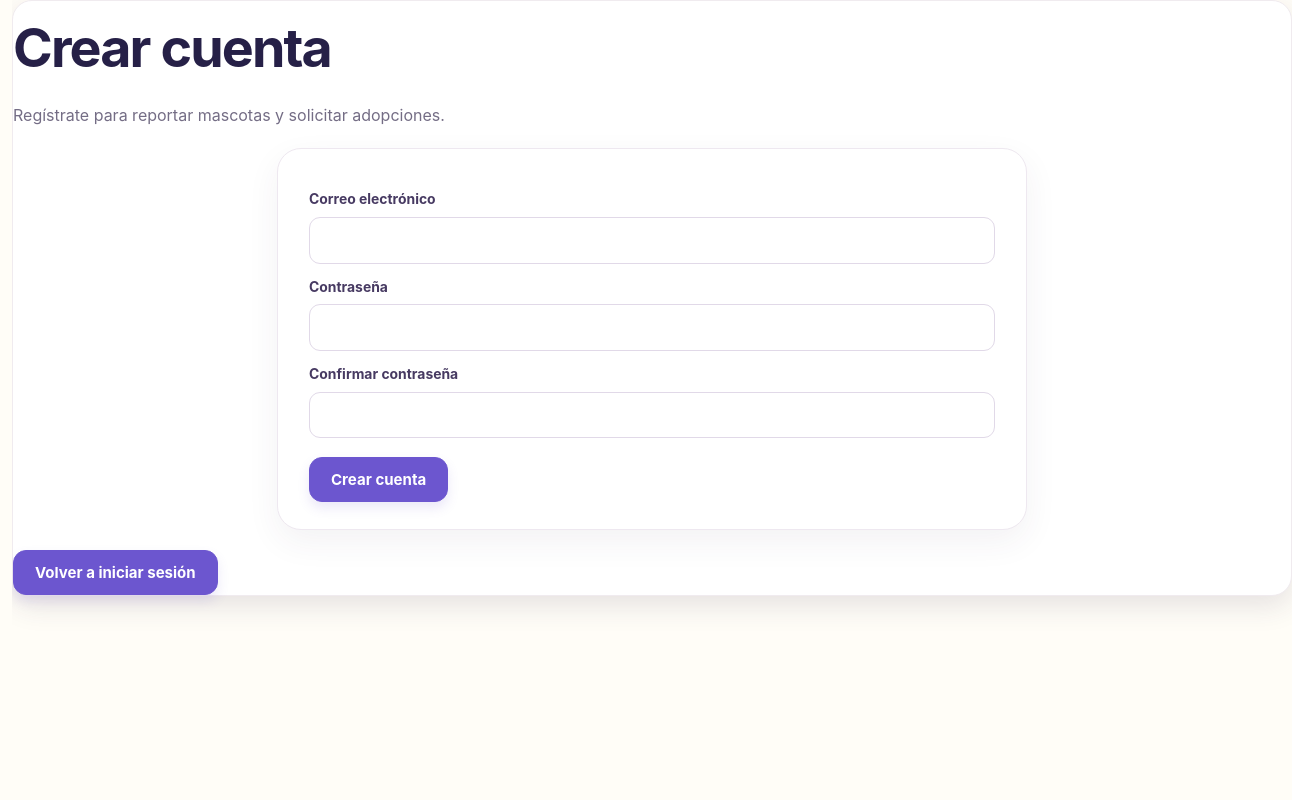
Test: muestra el error cuando el registro ya existe
Type "nuevo@ejemplo.com" into the field labelled "Correo electrónico" at (652, 240), box top-left (309, 217), bottom-right (995, 264)
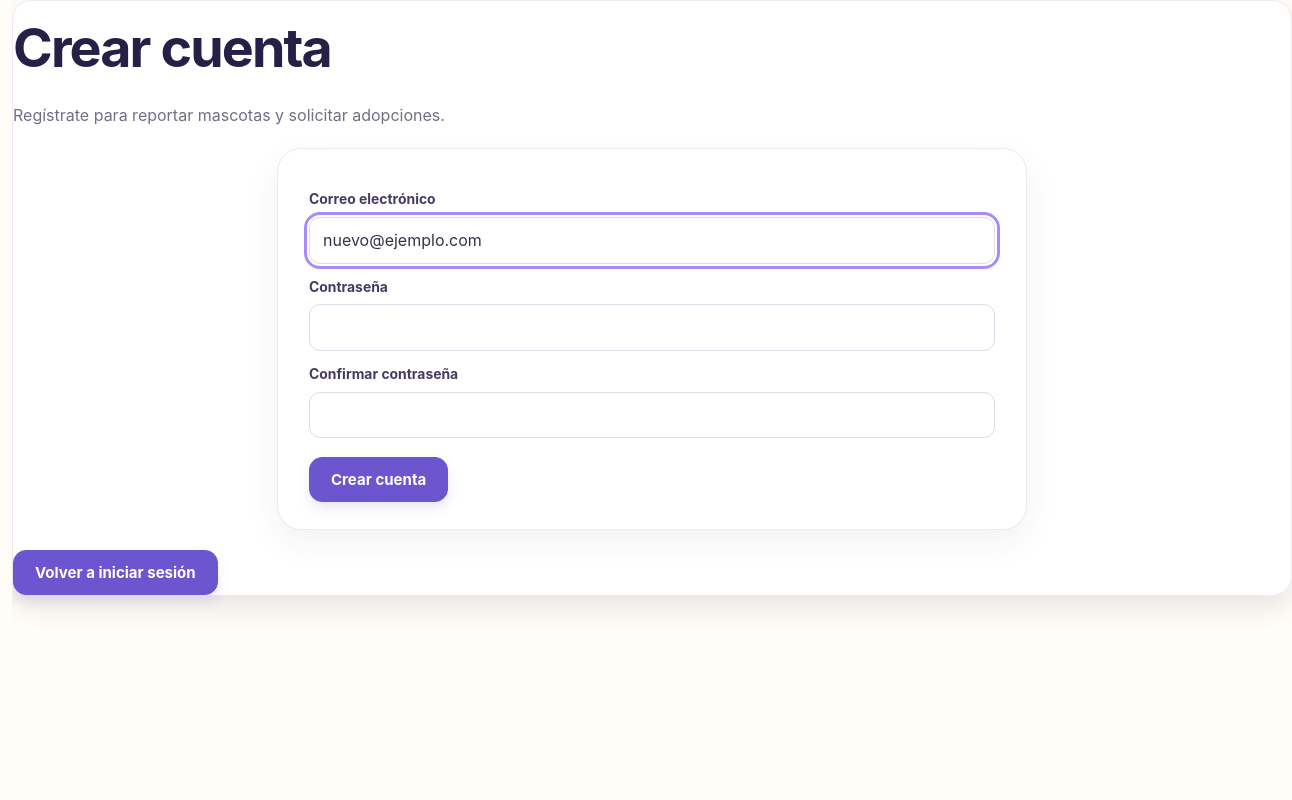
Type "Clave12345" into the password field labelled "Contraseña" at (652, 328), box top-left (309, 304), bottom-right (995, 351)
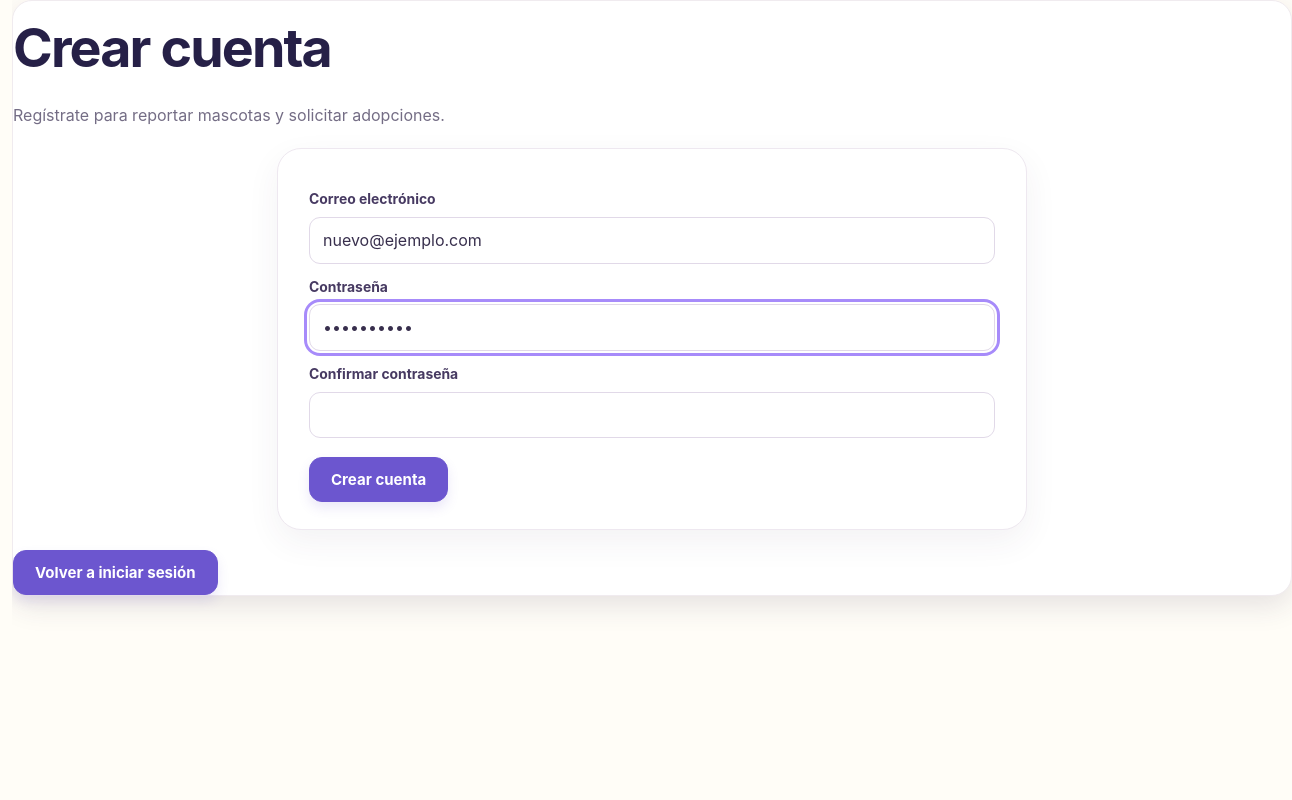
Type "Clave12345" into the password field labelled "Confirmar contraseña" at (652, 415), box top-left (309, 392), bottom-right (995, 438)
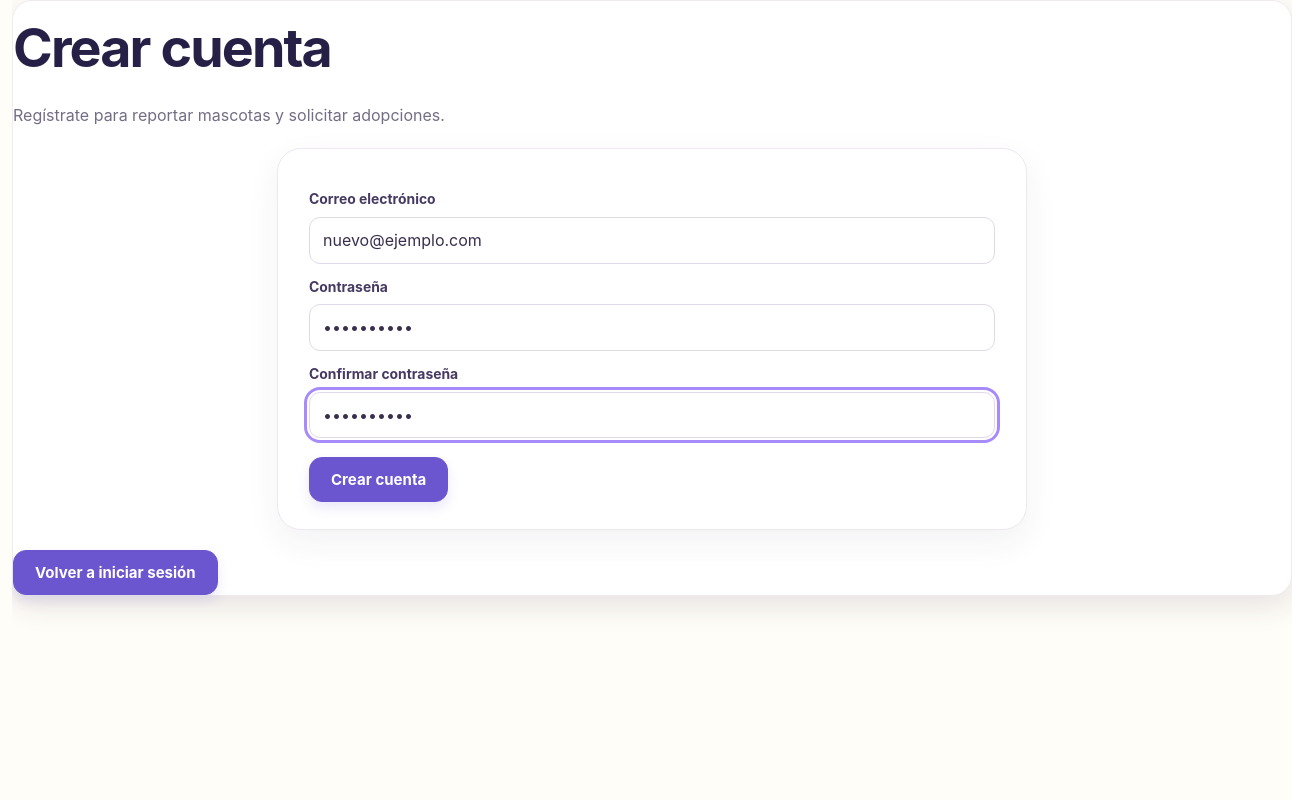
Click the button "Crear cuenta" at (379, 480), box top-left (309, 457), bottom-right (448, 502)
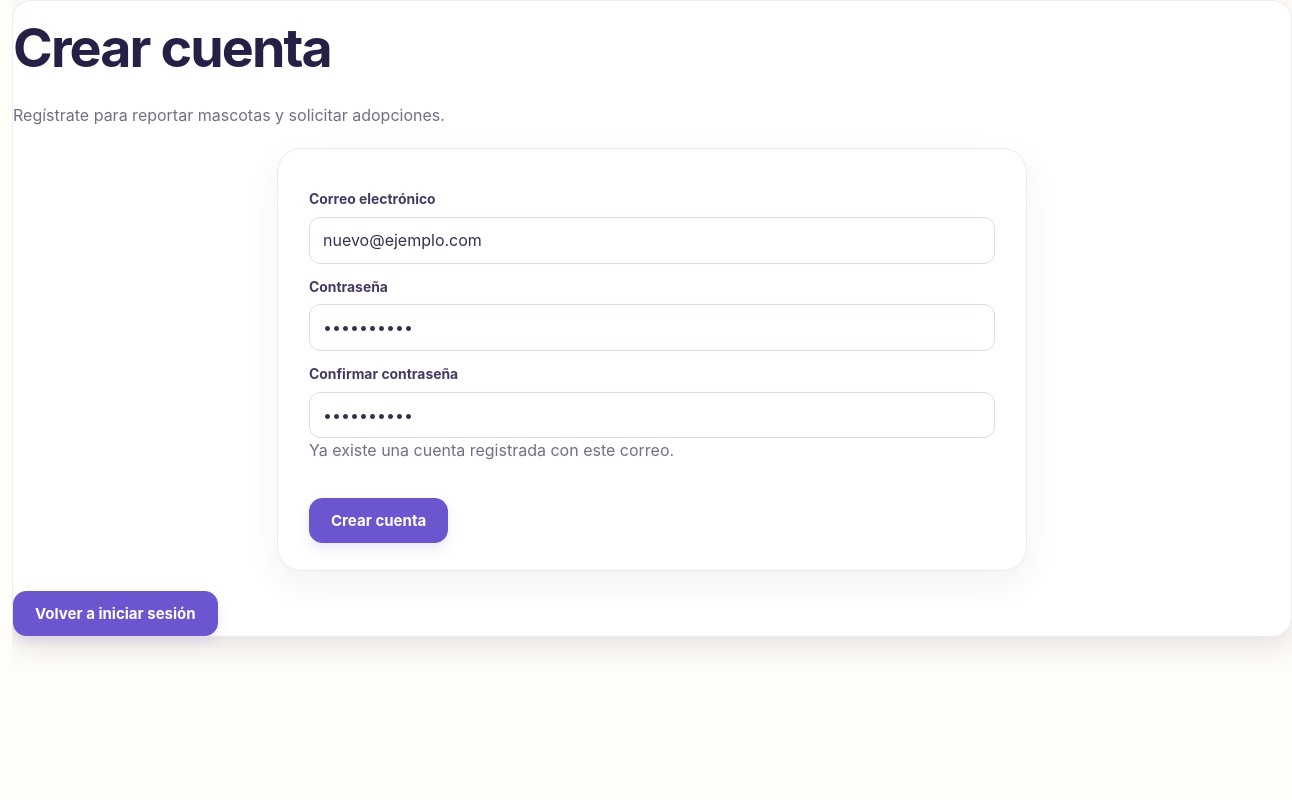
Expected: the message shows "Ya existe una cuenta", top-left (309, 440), bottom-right (674, 460)
